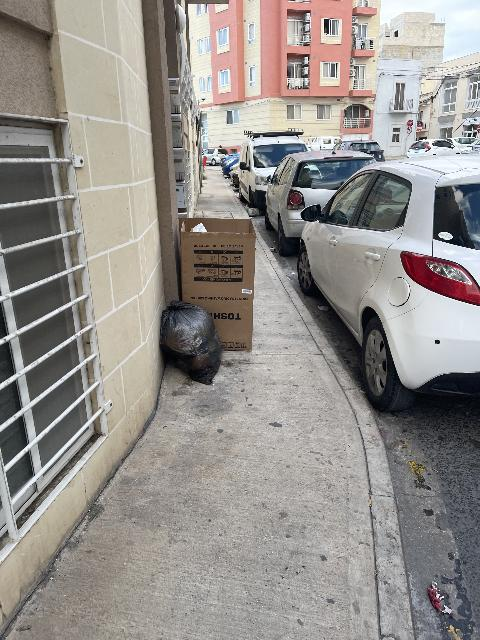Other: (181, 218, 255, 351)
Recyclable -Grey-: (160, 301, 223, 385)
